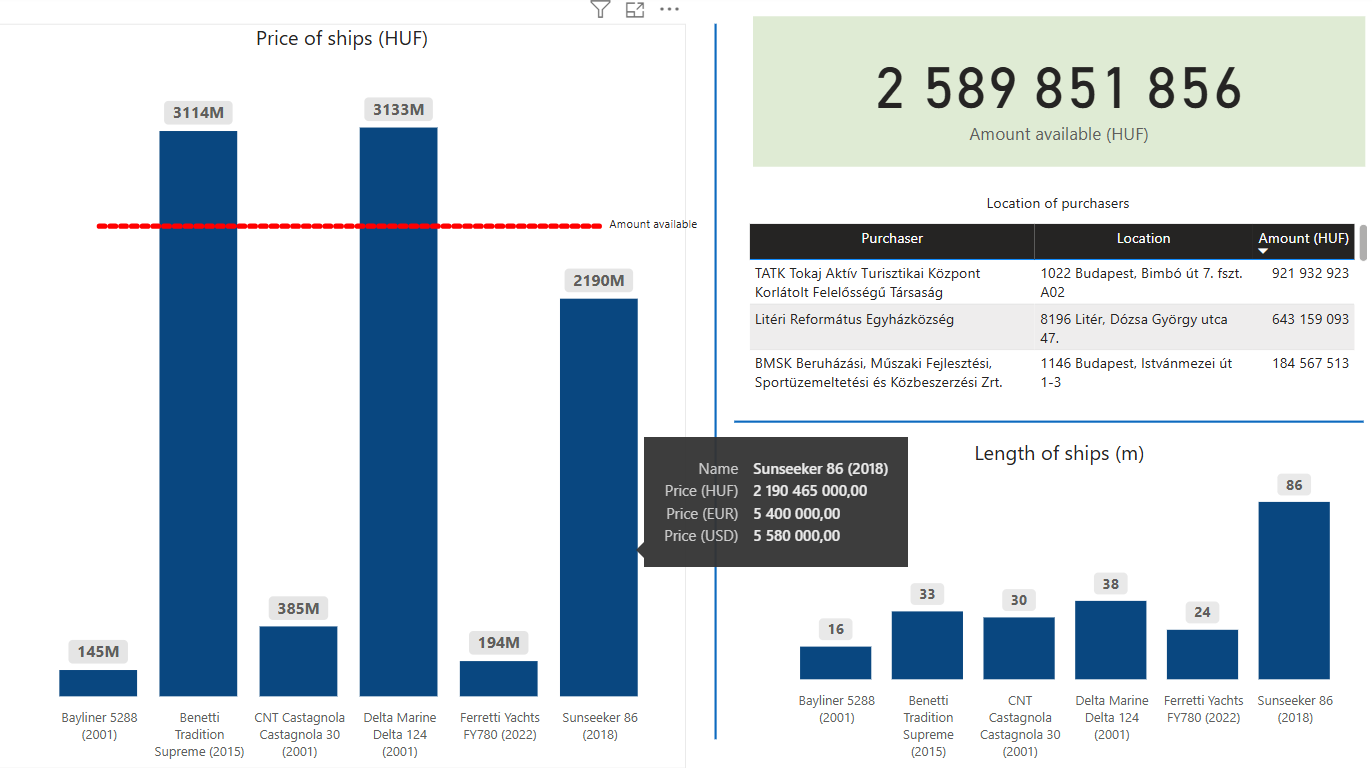

The page's visual inventory and layout, read from the dashboard file:
{"tool":"powerbi","page":{"name":"Page 1","canvas":[1280,720],"ordinal":0},"visuals":[{"type":"lineClusteredColumnComboChart","title":"Price of ships (HUF)","fields":{"Y":["datakft t03_ship.ship_price_huf"],"Category":["datakft t03_ship.ship_display_name"],"Y2":["datakft t01_tender.awarded_value"]},"box":[0,27.1,639.7,692.9],"z":0},{"type":"clusteredColumnChart","title":"Length of ships (m)","fields":{"Y":["datakft t03_ship.ship_length_m"],"Category":["datakft t03_ship.ship_display_name"]},"box":[694.2,412.8,586,307],"z":1000},{"type":"card","fields":{"Values":["datakft t01_tender.awarded_value"]},"box":[701.9,20.3,569.7,140.2],"z":2000},{"type":"tableEx","fields":{"Values":["datakft t02_purchaser.purchaser_name","datakft t02_purchaser.Location","datakft t01_tender.awarded_value"]},"box":[692.9,208,586.6,166.2],"z":3000},{"type":"shape","box":[649.9,27.1,35,665.7],"z":4000},{"type":"textbox","box":[700.8,178.6,569.7,29.4],"z":5000},{"type":"shape","box":[685,390,585.5,14.7],"z":6000},{"type":"textbox","box":[559.5,197.8,100.6,29.4],"z":7000}]}

Visuals, with their boxes in screenshot pixels (x1, y1, x2, y2), scaled from the page's 1280x720 canvas onto the 1372x768 screenshot:
"Price of ships (HUF)" lineClusteredColumnComboChart: l=0, t=29, r=686, b=767
"Length of ships (m)" clusteredColumnChart: l=744, t=440, r=1371, b=767
card - datakft t01_tender.awarded_value: l=752, t=22, r=1363, b=171
tableEx - datakft t02_purchaser.purchaser_name x datakft t02_purchaser.Location: l=743, t=222, r=1371, b=399
shape: l=697, t=29, r=734, b=739
textbox: l=751, t=191, r=1362, b=222
shape: l=734, t=416, r=1362, b=432
textbox: l=600, t=211, r=708, b=242
